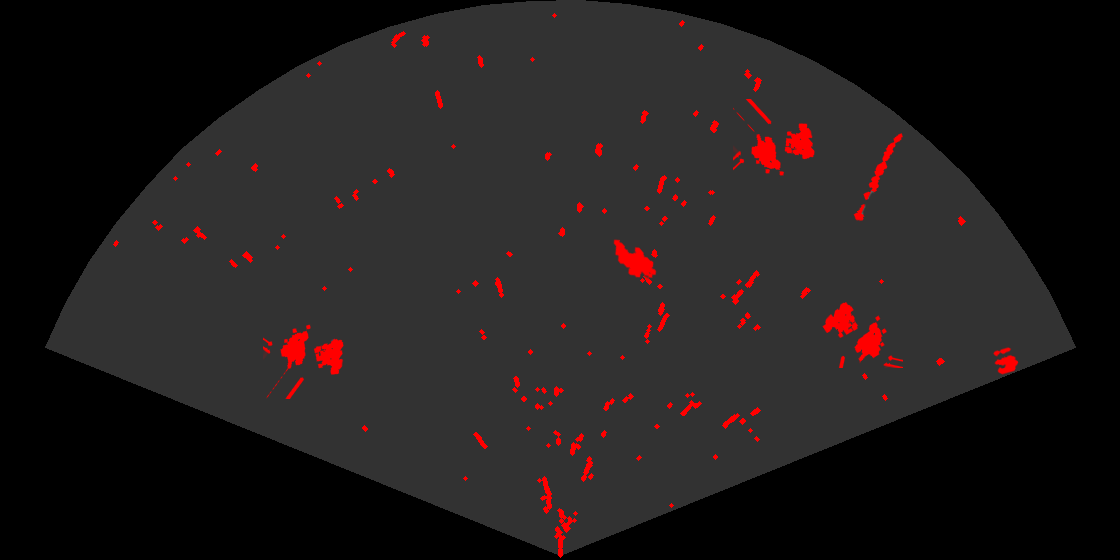AUV: (612, 238, 658, 280)
ball: (992, 346, 1020, 376)
cage: (733, 99, 816, 177), (263, 323, 345, 399), (821, 301, 903, 368)
chain: (852, 132, 904, 223)
